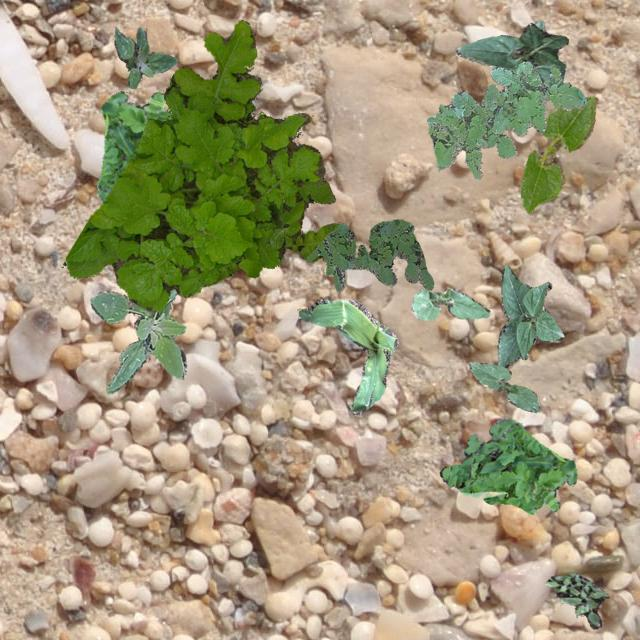crop: (298, 298, 398, 414), (520, 95, 598, 212), (456, 23, 568, 90), (497, 262, 562, 368), (468, 361, 538, 412), (499, 20, 545, 96), (411, 288, 488, 320)
weed: (62, 18, 324, 310), (200, 100, 338, 286), (426, 61, 586, 178), (438, 418, 576, 514), (90, 288, 186, 392), (304, 218, 432, 290), (96, 90, 172, 202), (112, 27, 176, 88), (544, 572, 608, 628)
